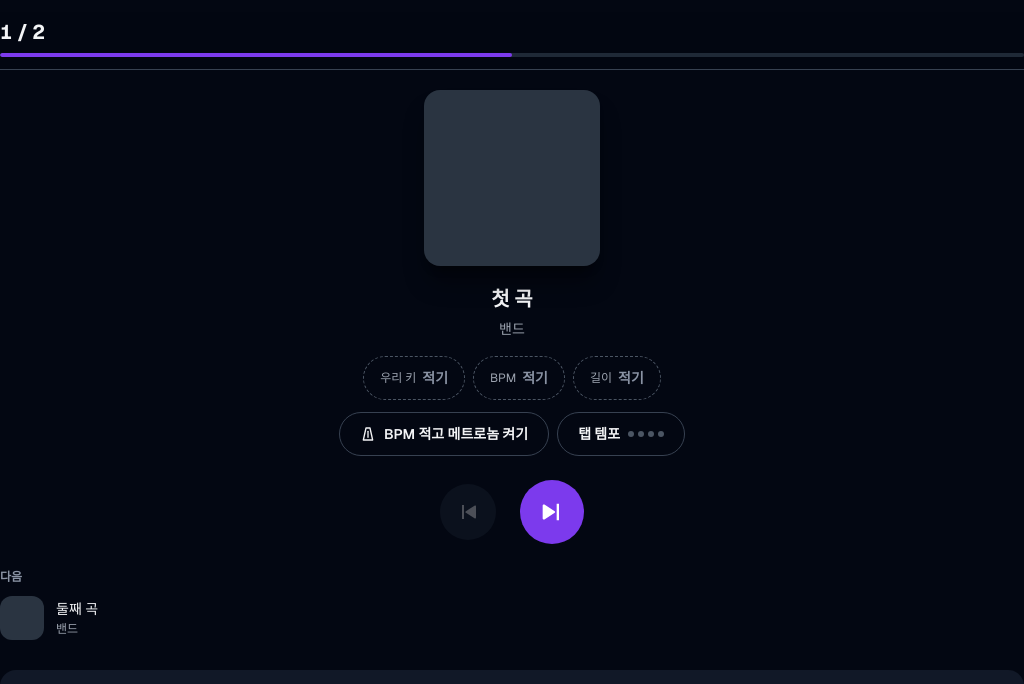
Test: RehearsalView tap tempo › saves a finished tempo to its own song when moving on mid-sequence
Step 1. Click the button "탭 템포" → [621, 434], box [557,412,685,456]
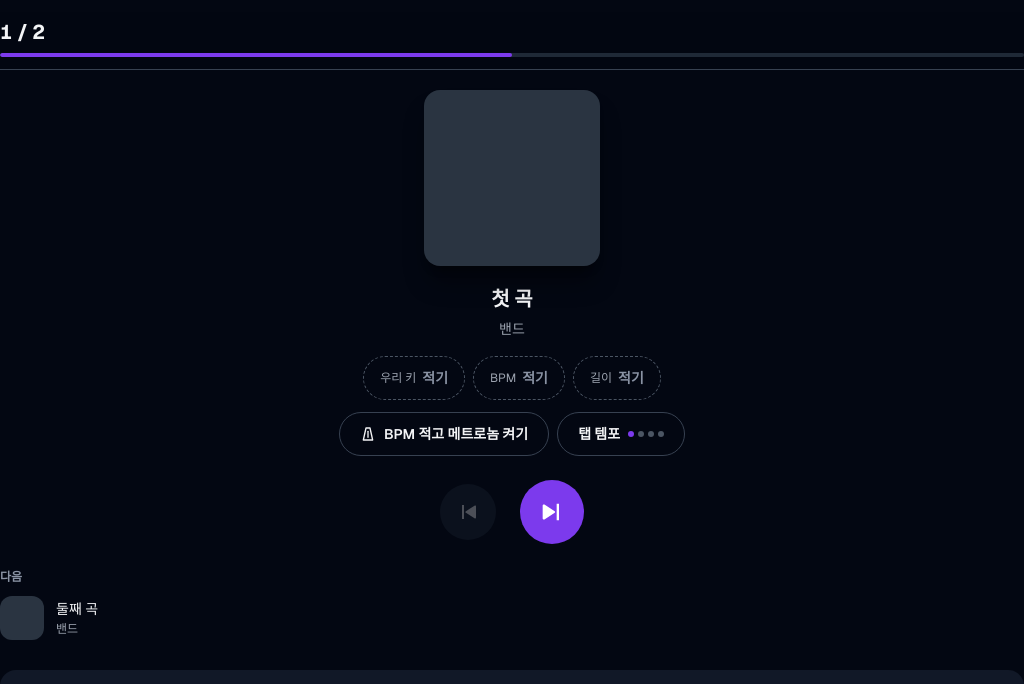
Step 2. Click the button "탭 템포" → [621, 434], box [557,412,685,456]
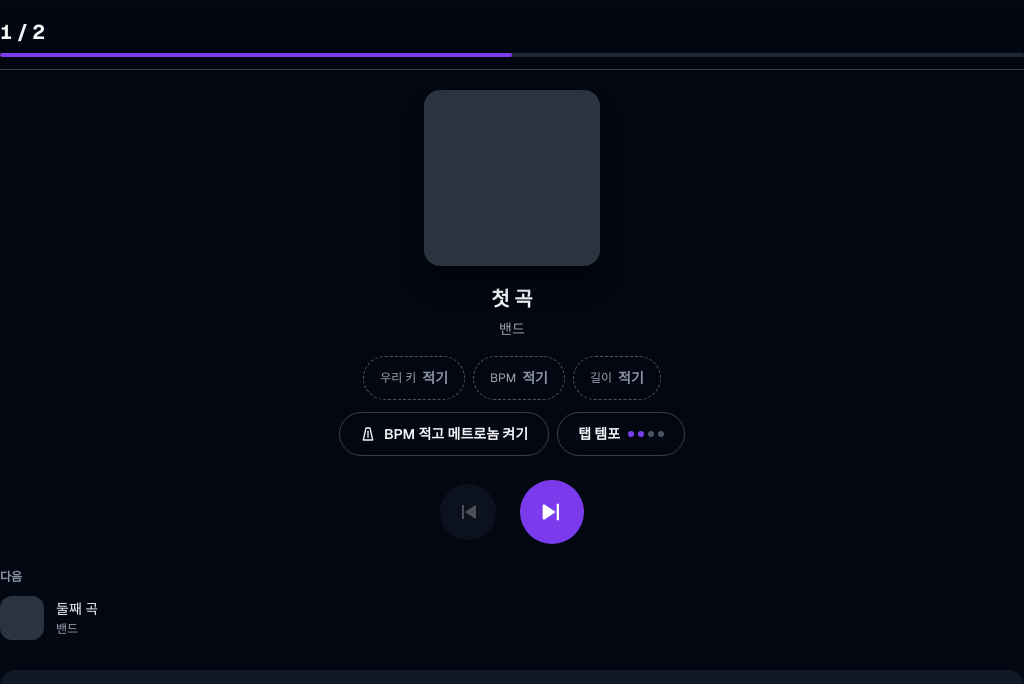
Step 3. Click the button "탭 템포" → [621, 434], box [557,412,685,456]
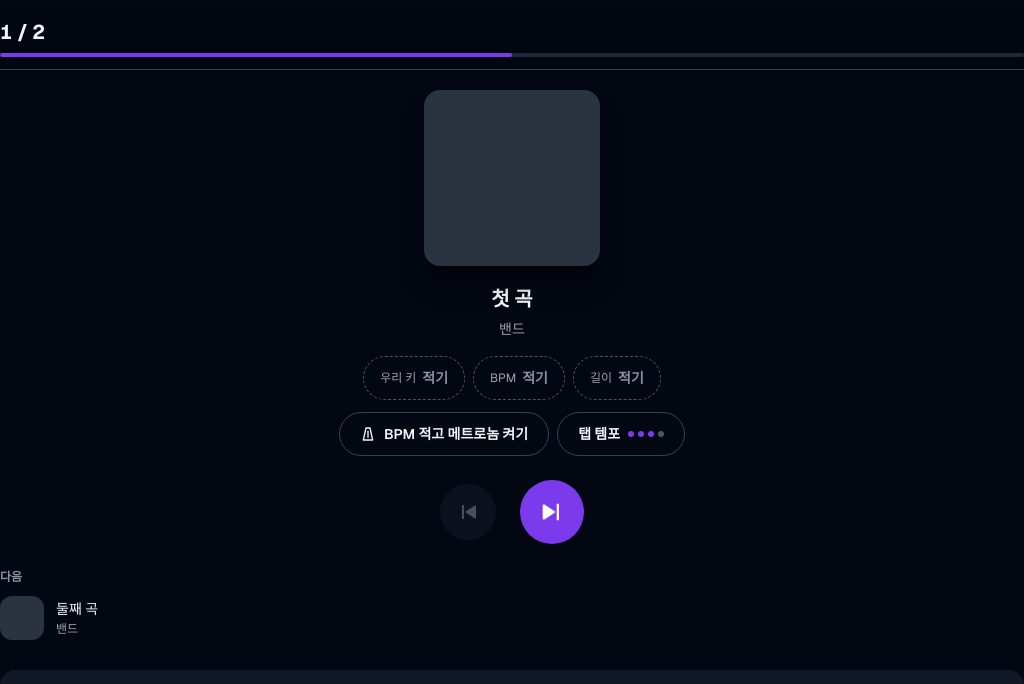
Step 4. Click the button "탭 템포" → [621, 434], box [557,412,685,456]
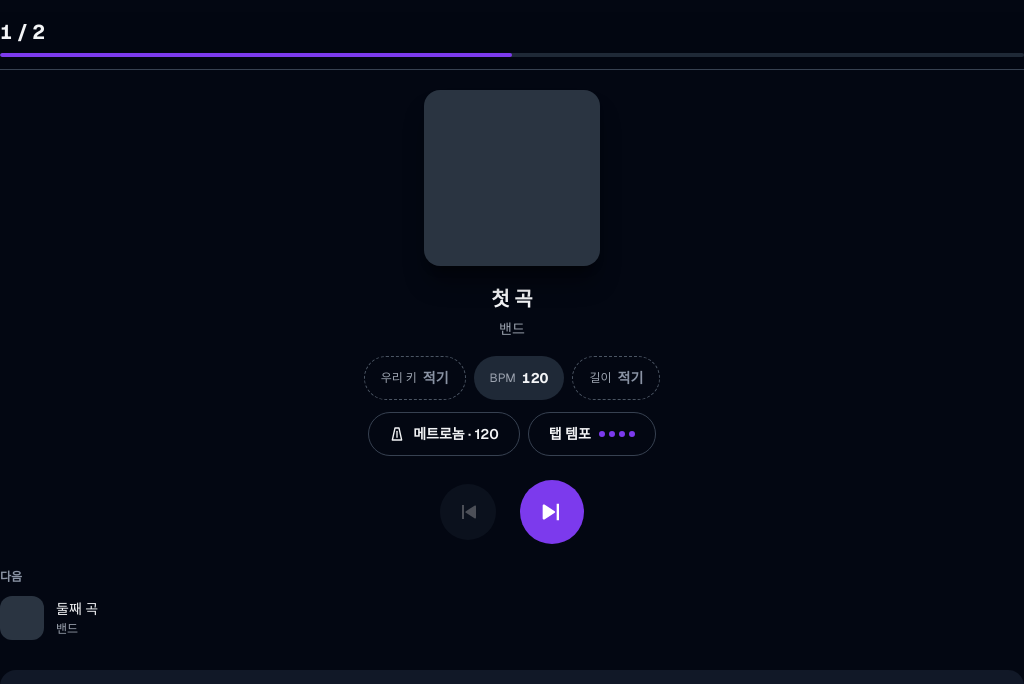
Step 5. Click the button named "다음 곡" → [552, 512], box [520,480,584,544]
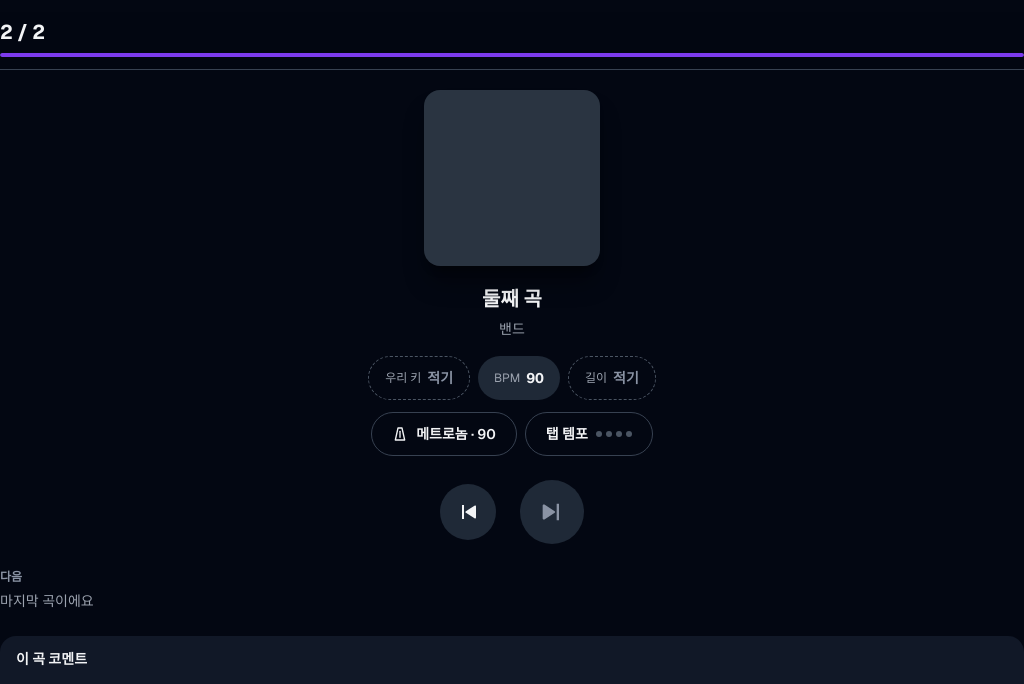
expect the button with aria-label "BPM 90 고치기" is shown: met, box [478,356,560,400]
